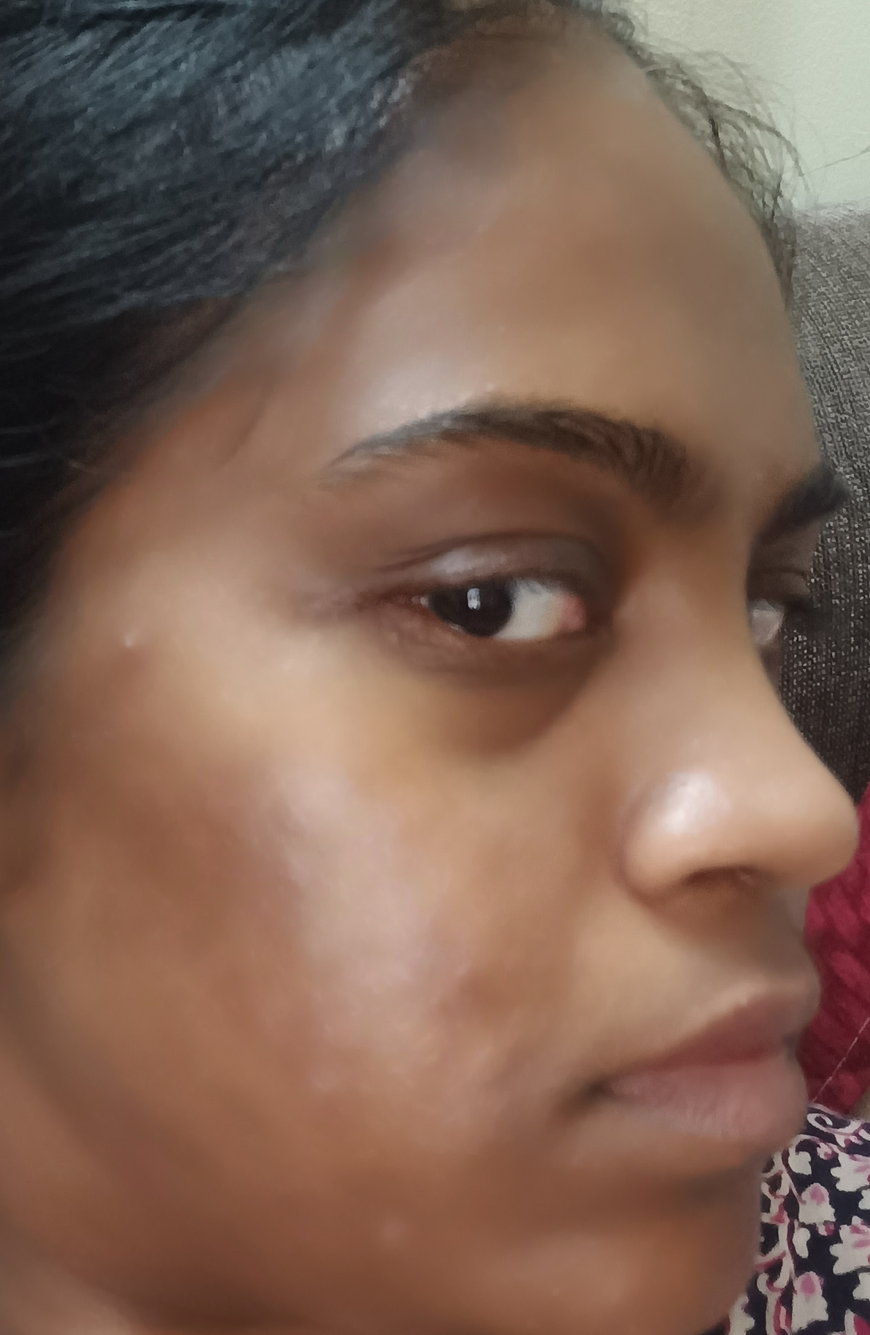papule: (235, 771, 327, 848), (288, 1049, 367, 1130), (433, 936, 510, 1007), (362, 1203, 426, 1260)
pustule: (111, 606, 160, 672)
